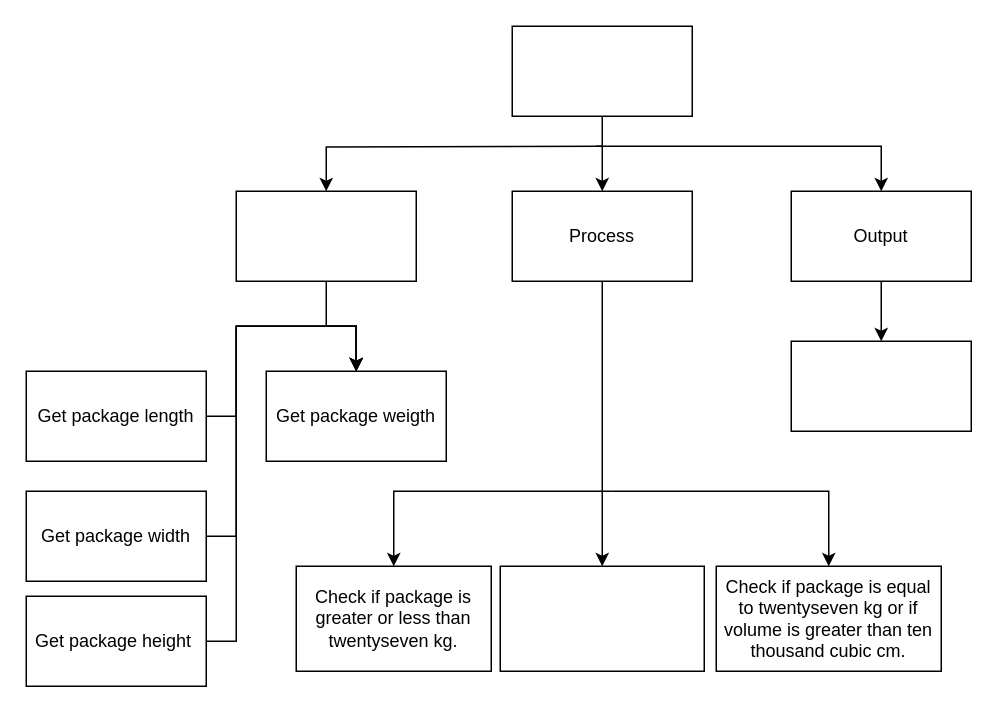
The diagram is 998 pixels wide and 713 high, and some of its shapes have lost their labels. The centre of each missing label's shape, as x and y in pixels:
Check if volume of package is less or equal to ten thousand cubic cm.: the point at 601,618
Input: the point at 325,235
Package acceptance: the point at 601,70
Show Output: the point at 880,385
